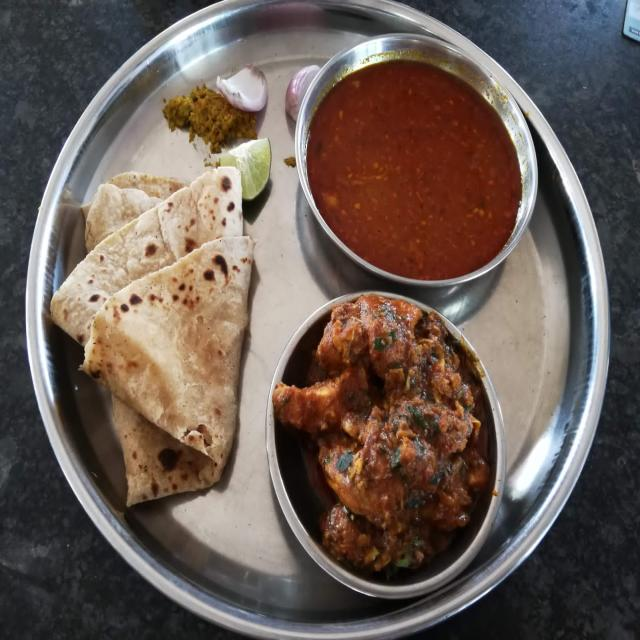non veg meals: (38, 13, 550, 595)
